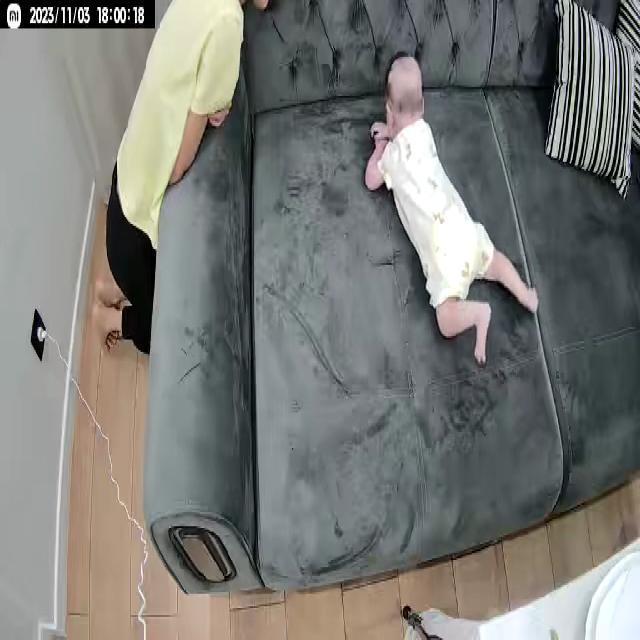baby: (360, 50, 540, 365)
